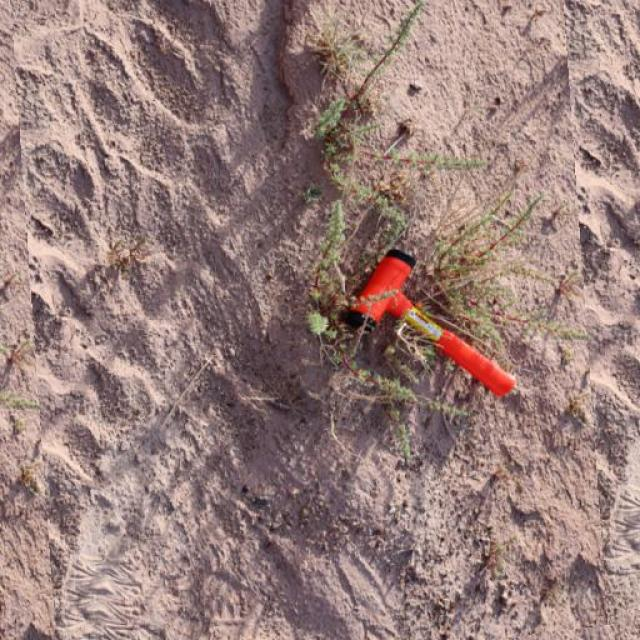mallet: (342, 247, 516, 398)
